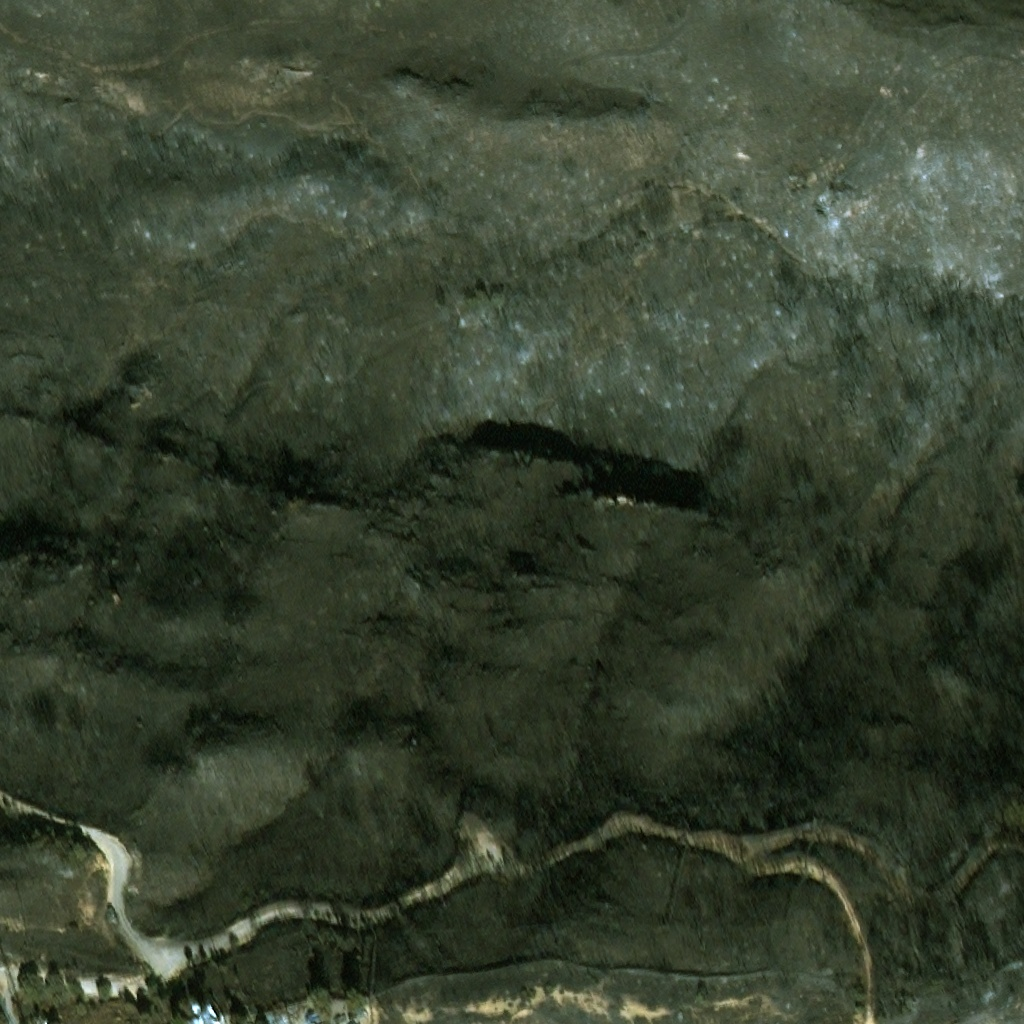4 un-classified: (195, 1013, 227, 1023), (264, 1010, 287, 1023), (243, 1007, 256, 1023)
